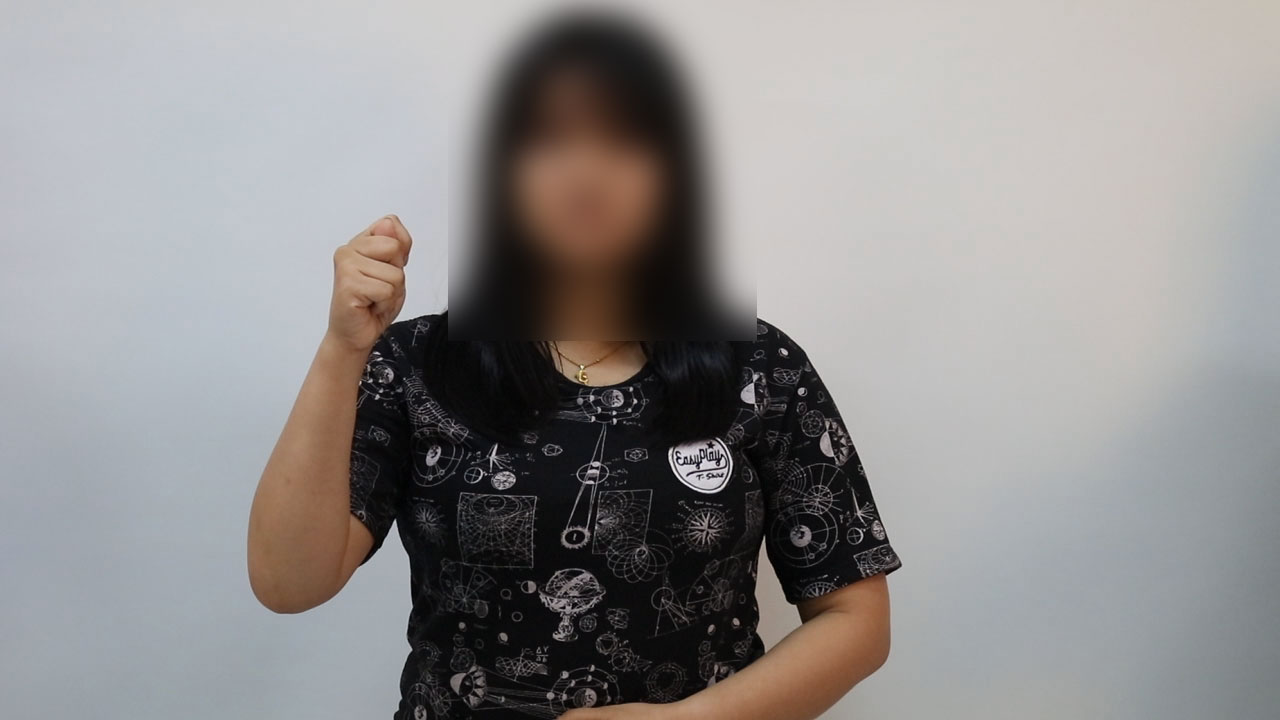tor: (311, 206, 437, 385)
